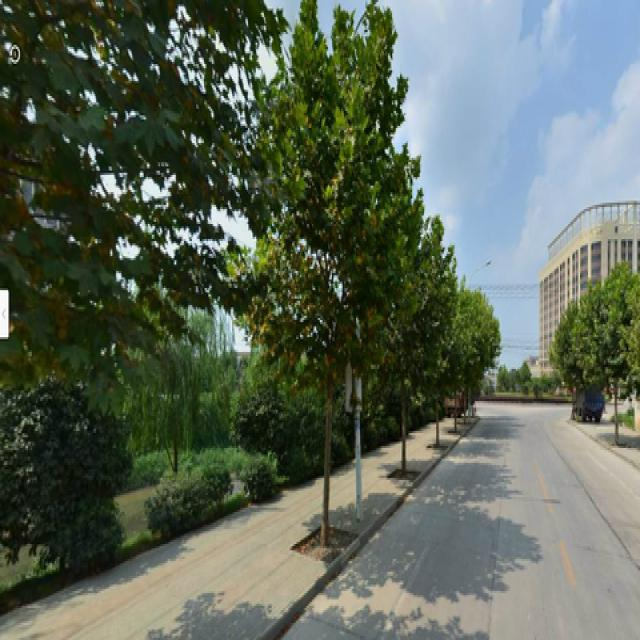meta: (282, 52, 389, 550), (594, 271, 634, 463)
